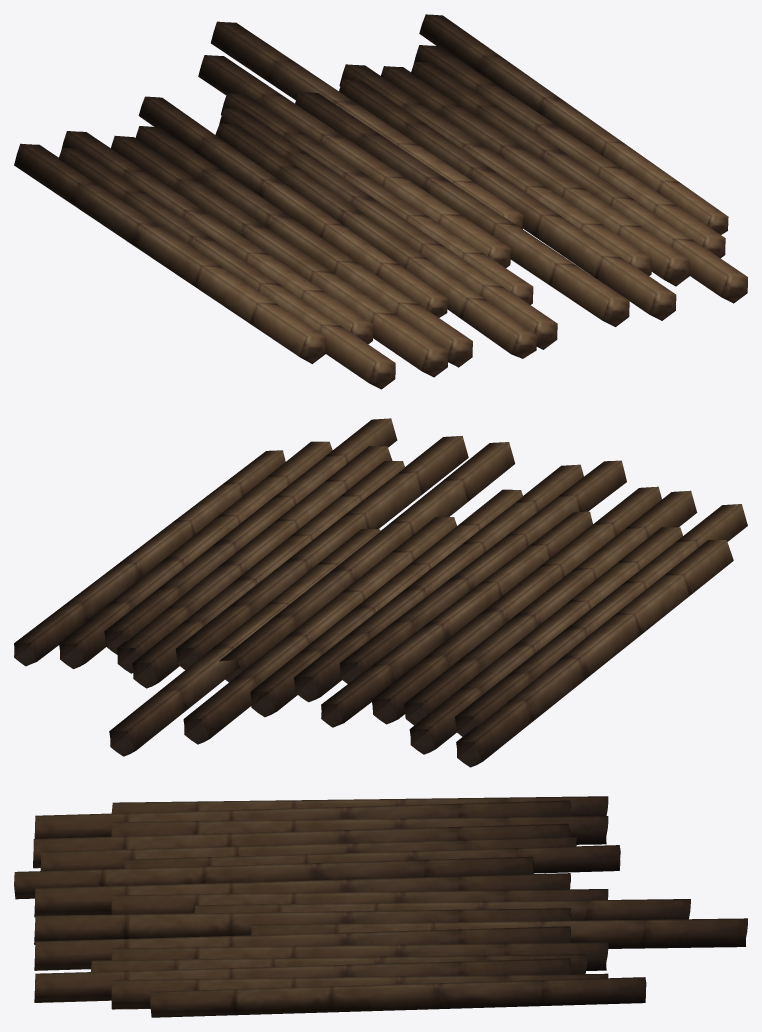
Rendered from Lty_zhuban.FBX.
3 views of the same model, one above another, from view 1: azimuth 30°, elevation 25°; view 2: azimuth 150°, elevation 25°; view 3: azimuth 270°, elevation 25° (orthographic). The views are drawn at different scales.
Parts seen in each view (by area): view 1: Lty_zhuban; view 2: Lty_zhuban; view 3: Lty_zhuban.
Boxes of the visible parts, left/top/right/bottom form: Lty_zhuban: left=14, top=14, right=747, bottom=389; Lty_zhuban: left=14, top=418, right=747, bottom=767; Lty_zhuban: left=14, top=796, right=747, bottom=1017.
Size of the model in its own units: 170 by 253 by 14.22.
